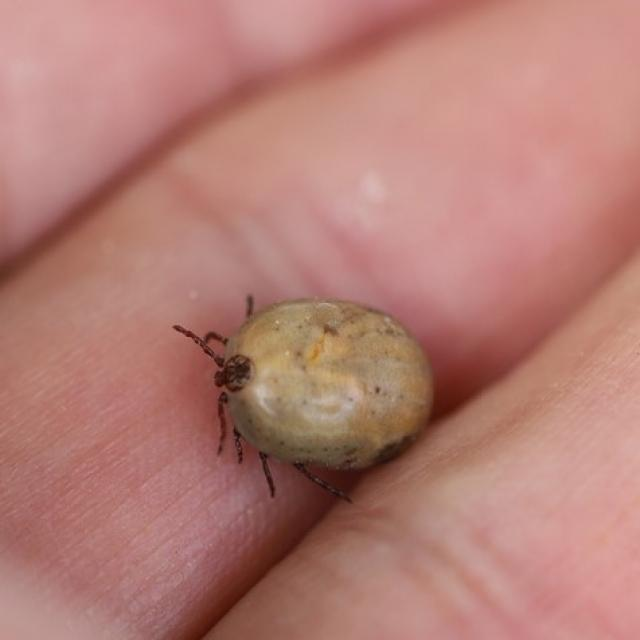Dermacentor Reticulatus-F-Fed: (175, 294, 436, 503)
